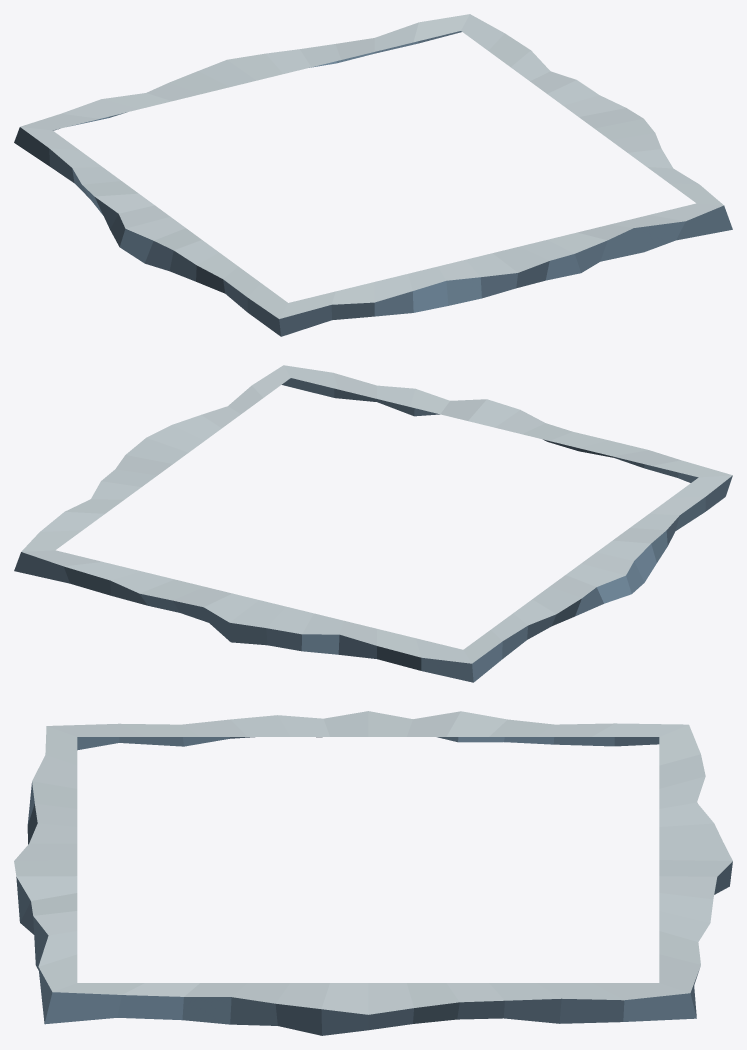
File: entorno_18.glb
3 renders of one model, top to bottom at view 1: azimuth 30°, elevation 25°; view 2: azimuth 150°, elevation 25°; view 3: azimuth 270°, elevation 25°, orthographic. The views are drawn at different scales.
Parts seen in each view (by area): view 1: neve_entorno_18; view 2: neve_entorno_18; view 3: neve_entorno_18.
Part boxes in pixels (x1,y1,x2,y2): neve_entorno_18: (14, 14, 732, 336); neve_entorno_18: (14, 365, 732, 682); neve_entorno_18: (14, 711, 732, 1035).
Bounding box in the file's own units: 22.6 × 1.07 × 22.49.
